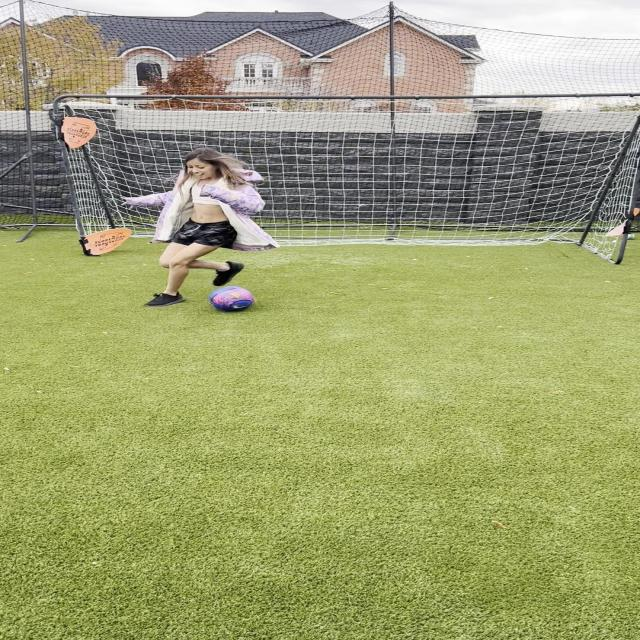Soccer Ball: (209, 286, 254, 313)
